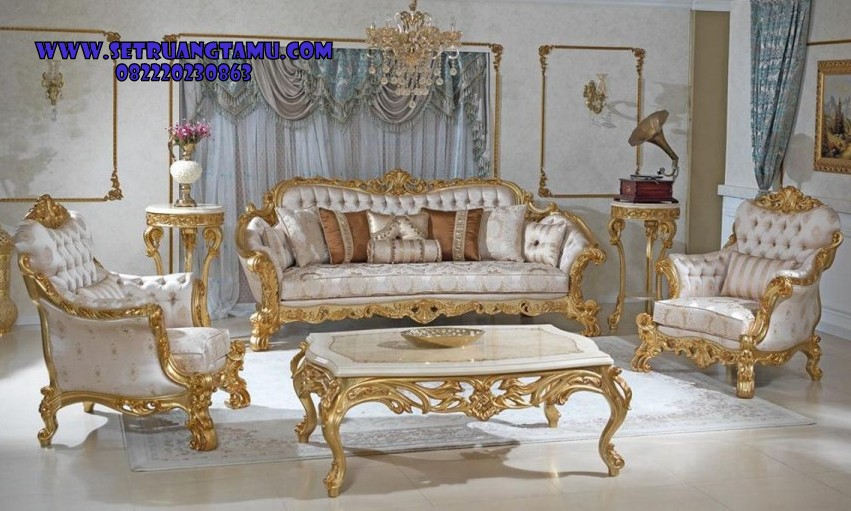Carving Chair: (6, 196, 258, 445), (238, 174, 600, 332), (656, 184, 840, 383)
Carving Table: (292, 326, 637, 494)
